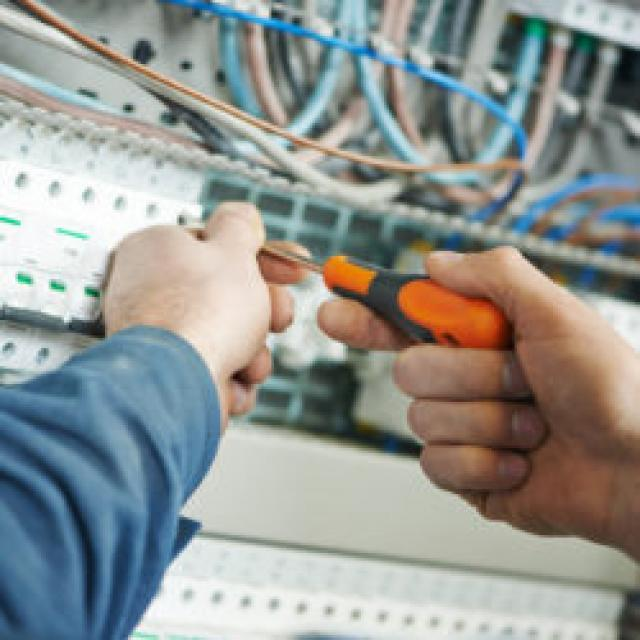screwdriver: (198, 211, 524, 365)
